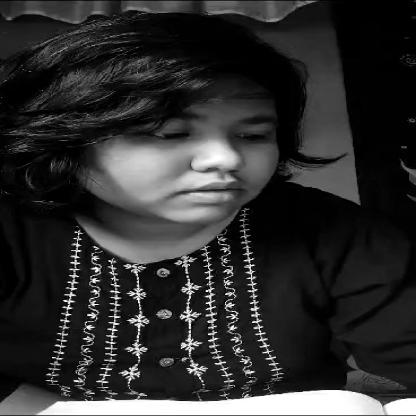Distracted: (63, 70, 298, 226)
